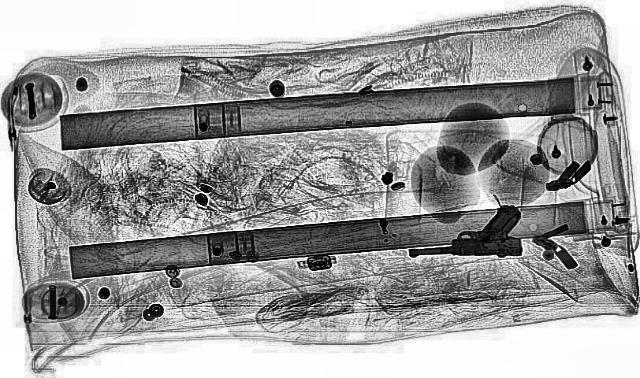Gun: (398, 204, 530, 262)
